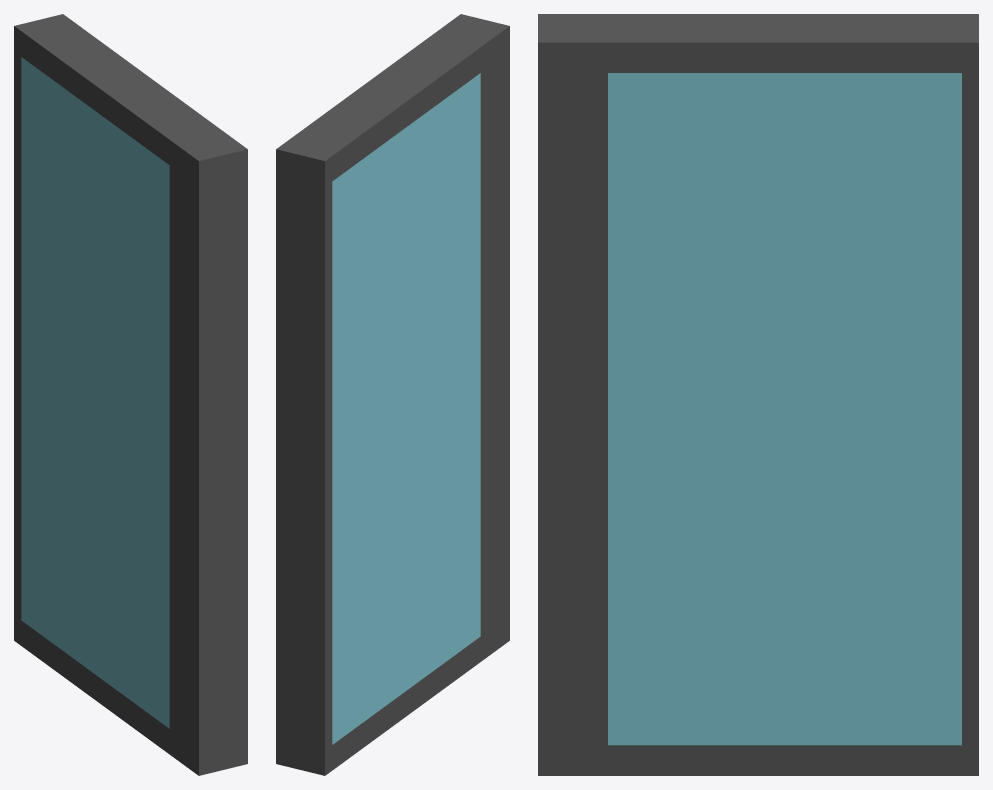
The model's file is elevator_door.fbx.
3 renders of one model, left to right at view 1: azimuth 30°, elevation 25°; view 2: azimuth 150°, elevation 25°; view 3: azimuth 270°, elevation 25°, orthographic. The views are drawn at different scales.
Parts seen in each view (by area): view 1: edoor.002, edoor.004; view 2: edoor.002, edoor.004; view 3: edoor.002, edoor.004.
Boxes of the visible parts, x1,y1,x2,y2 form: edoor.002: [21, 57, 169, 728]; edoor.004: [14, 14, 247, 775]; edoor.002: [332, 73, 480, 744]; edoor.004: [276, 14, 509, 775]; edoor.002: [608, 73, 961, 745]; edoor.004: [538, 14, 978, 775].
Size of the model in its own units: 25 by 300 by 163.
